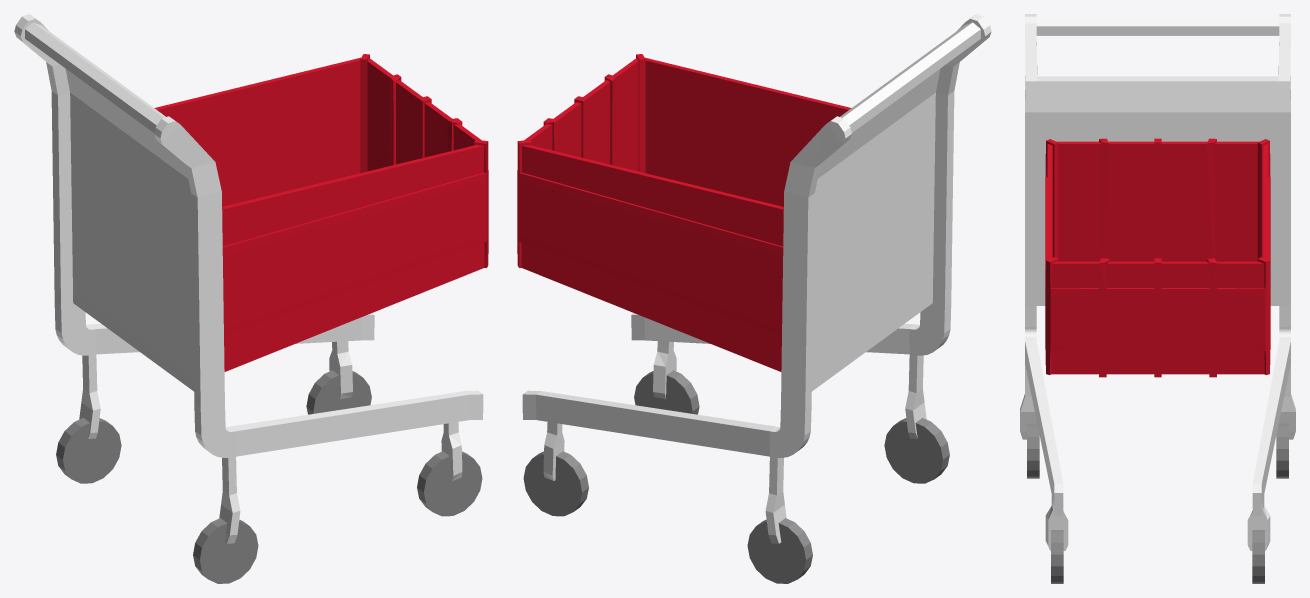
File: SM_cart_02.fbx
3 renders of one model, left to right at view 1: azimuth 30°, elevation 25°; view 2: azimuth 150°, elevation 25°; view 3: azimuth 270°, elevation 25°, orthographic. The views are drawn at different scales.
Visible parts, largest first — view 1: SM_cart_02; view 2: SM_cart_02; view 3: SM_cart_02.
Boxes of the visible parts, <box> form: SM_cart_02: <box>14,14,488,583</box>; SM_cart_02: <box>517,14,991,583</box>; SM_cart_02: <box>1020,14,1295,583</box>.
Bounding box in the file's own units: 93.87 × 125 × 71.77.
